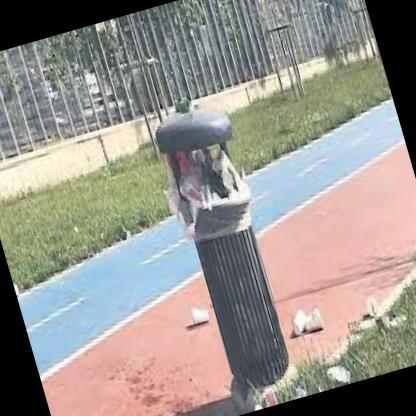Garbage: (174, 142, 244, 198), (285, 304, 329, 346), (188, 304, 212, 329)
